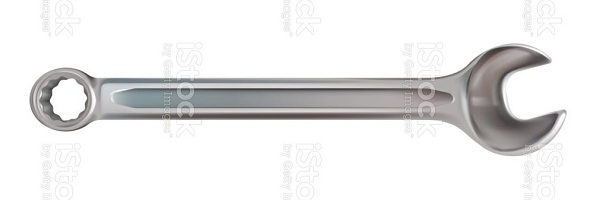Job: (115, 22, 575, 163)
